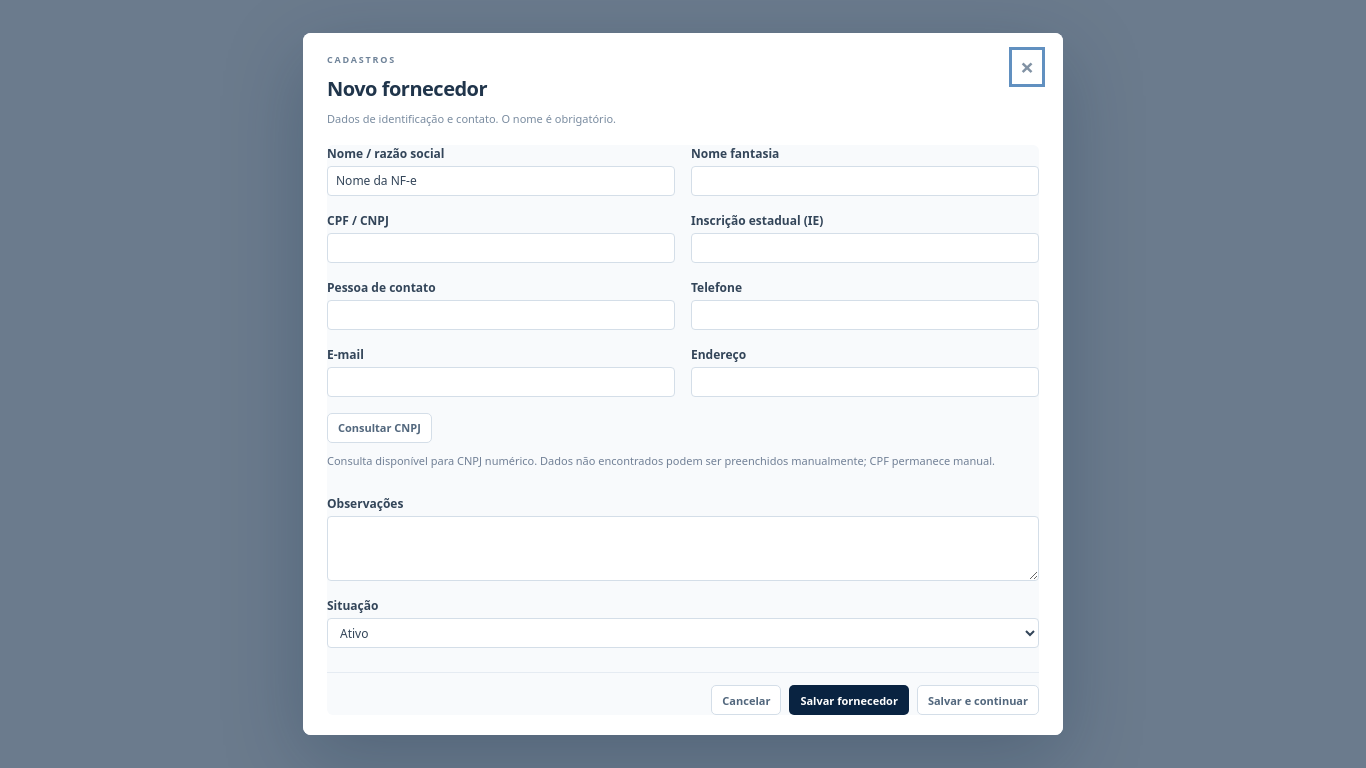
Test: automatically fills blank fields on leaving CNPJ, preserving existing invoice or manual data
The width and height of the screenshot is (1366, 768).
In the field labelled "CPF / CNPJ": (501, 248) [327,233,675,263], type "19.131.243/0001-97"
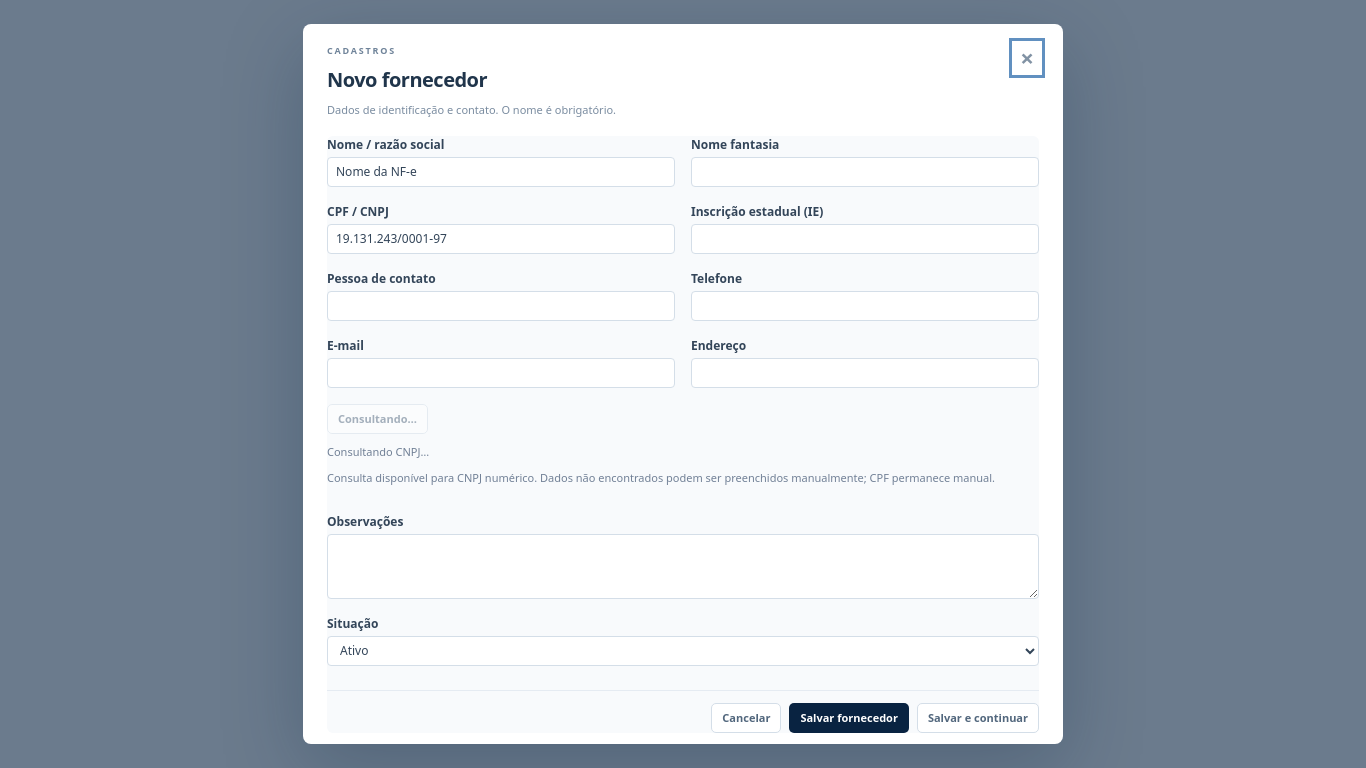
In the field labelled "Telefone": (865, 306) [691,291,1039,321], type "7133331111"
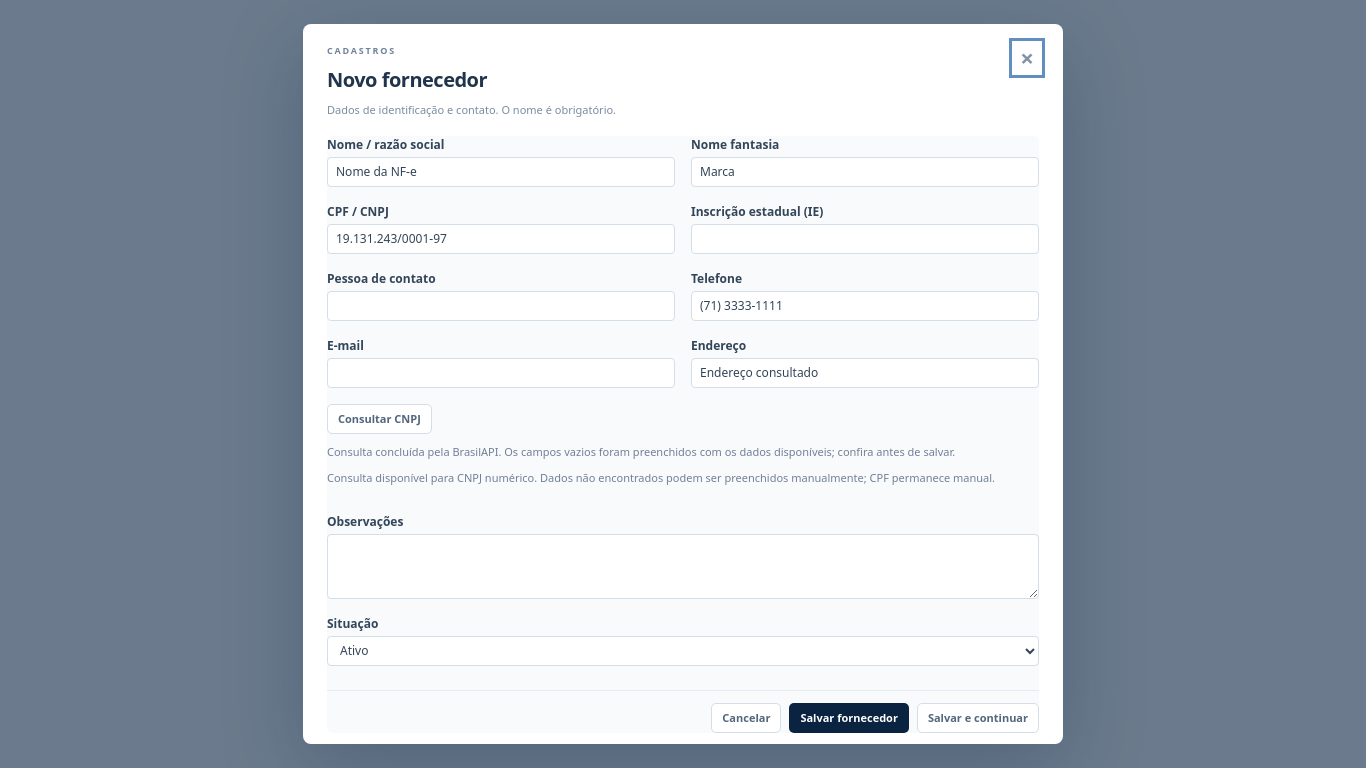
Expected: the field labelled "Nome / razão social" holds "Nome da NF-e", [327,157,675,187]
Expected: the field labelled "Nome fantasia" holds "Marca", [691,157,1039,187]
Expected: the field labelled "Telefone" holds "(71) 3333-1111", [691,291,1039,321]
